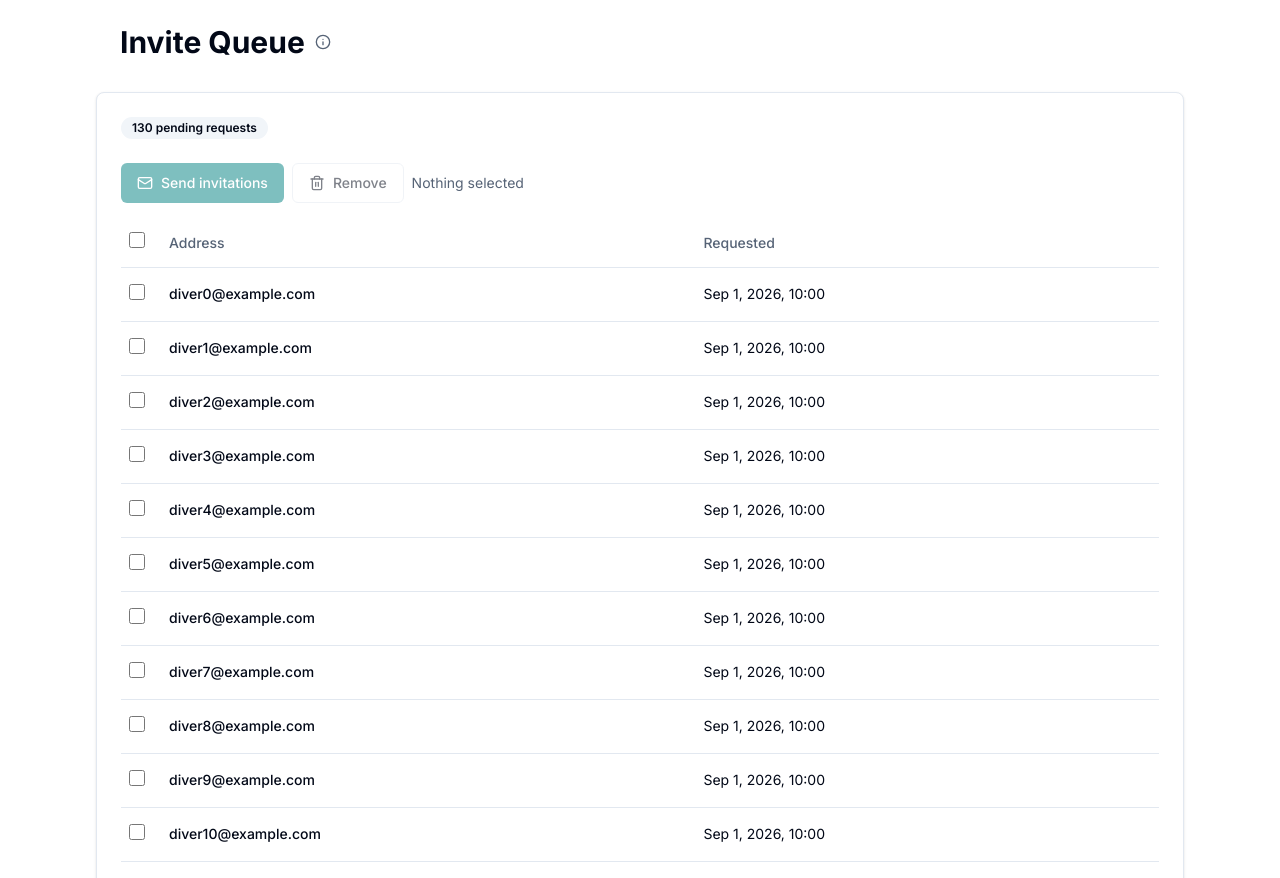
Test case: the invite queue › the hundred-address batch cap › selects at most a full batch, not every row on screen
Expected: the text "diver0@example.com" is shown, [161, 267, 695, 321]
Click the checkbox named "Select a batch of requests, or clear the selection" at (137, 240), box [129, 232, 145, 248]
(page scrolled)
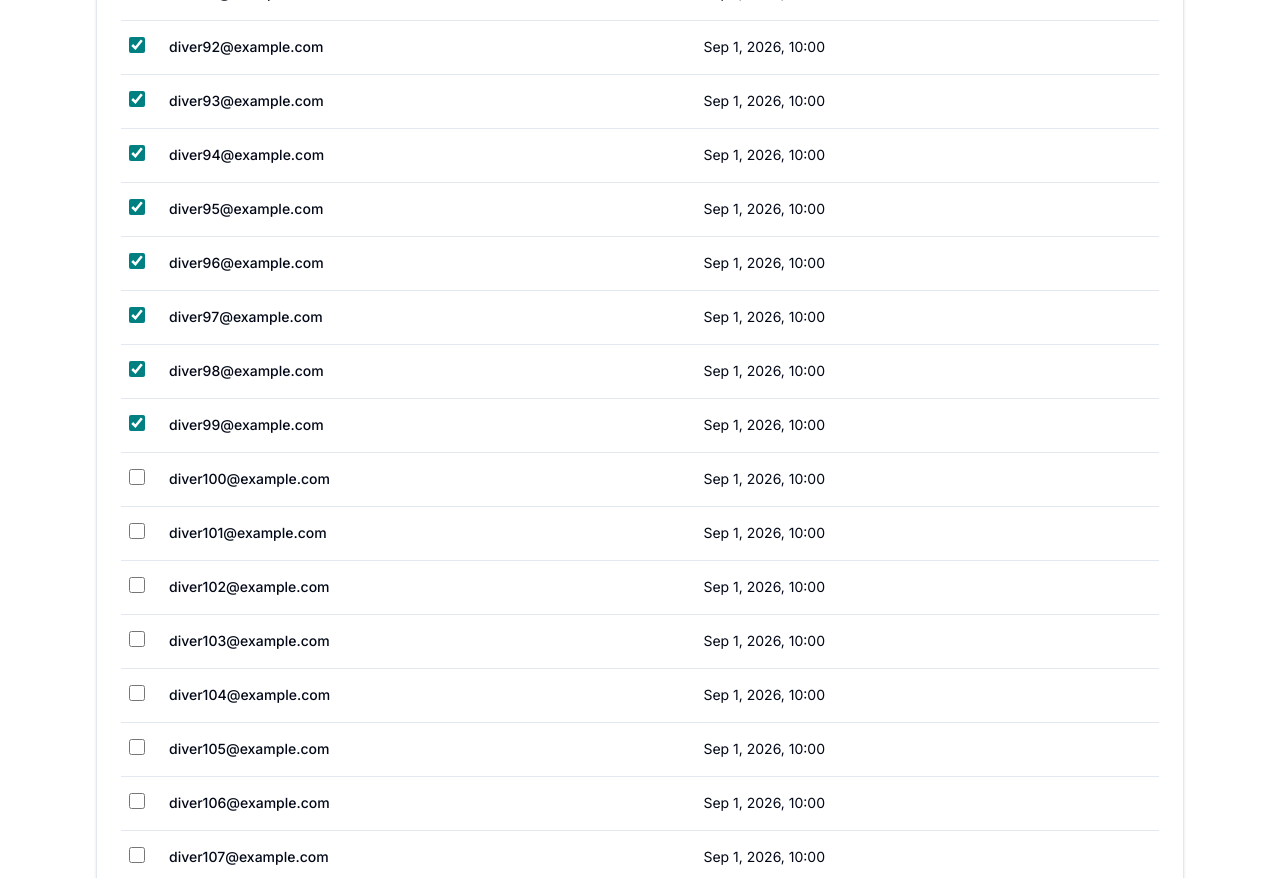
Expected: the checkbox named "Select diver100@example.com" is not checked, [129, 468, 145, 484]
Now the checkbox named "Select diver99@example.com" is checked, box [129, 414, 145, 430]
